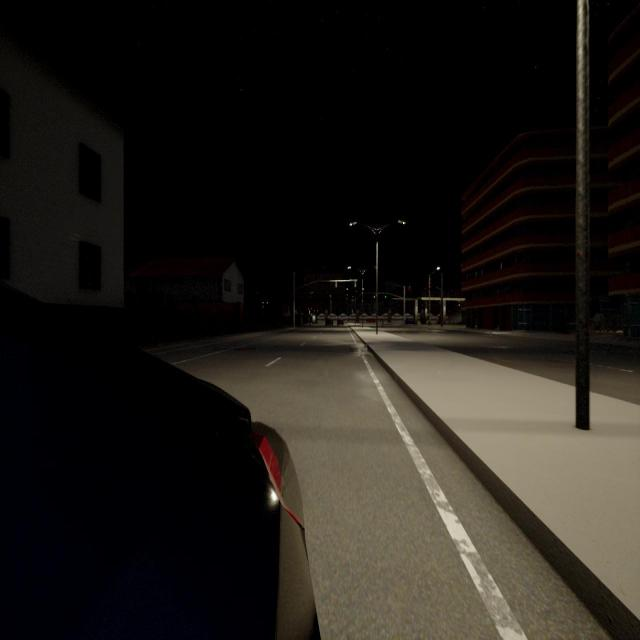Vehicle: (0, 287, 316, 640), (325, 319, 333, 325), (406, 318, 414, 324), (366, 319, 375, 323), (338, 319, 343, 325)
traffic_light: (354, 281, 356, 287), (335, 282, 337, 287), (384, 294, 386, 298), (408, 286, 411, 288), (374, 294, 375, 298)
